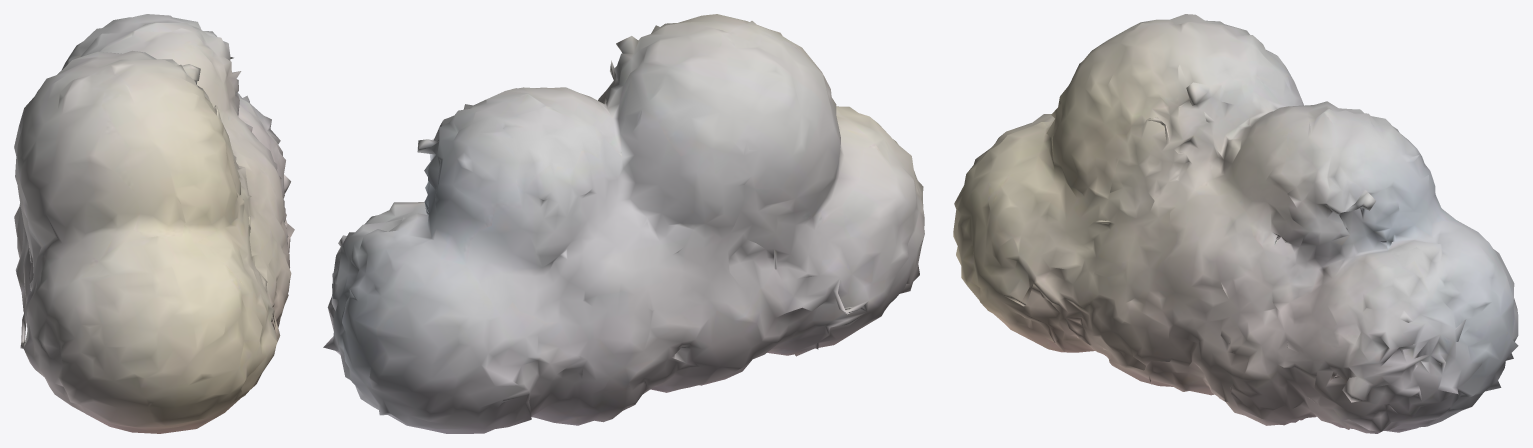
The model's file is cloud.glb.
The picture shows the model from 3 angles, left to right: view 1: azimuth 30°, elevation 25°; view 2: azimuth 150°, elevation 25°; view 3: azimuth 270°, elevation 25°; orthographic projection. The views are drawn at different scales.
Visible parts, largest first — view 1: tripo_node_a6ac0437-0b31-4565-97ac-6155a272805d; view 2: tripo_node_a6ac0437-0b31-4565-97ac-6155a272805d; view 3: tripo_node_a6ac0437-0b31-4565-97ac-6155a272805d.
Part boxes in pixels (bbox=[...]): tripo_node_a6ac0437-0b31-4565-97ac-6155a272805d: bbox=[14, 14, 294, 433]; tripo_node_a6ac0437-0b31-4565-97ac-6155a272805d: bbox=[323, 14, 924, 433]; tripo_node_a6ac0437-0b31-4565-97ac-6155a272805d: bbox=[953, 14, 1518, 433].
Size of the model in its own units: 0.7939 by 0.6487 by 1.
1 material, 1 textured.
